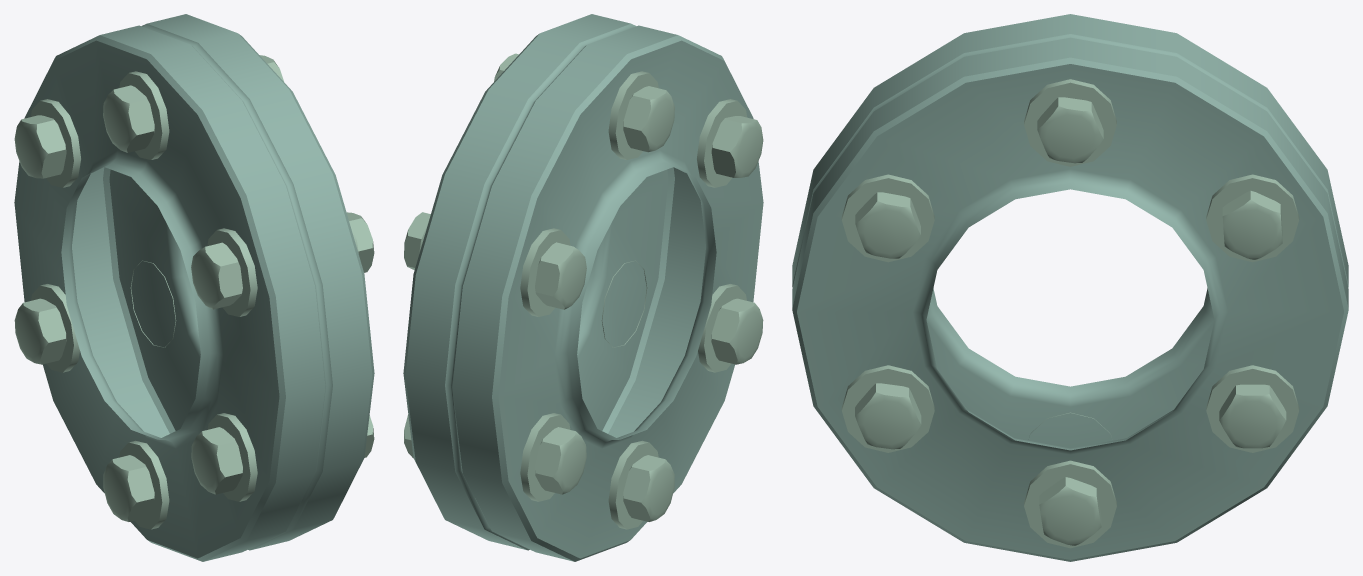
Rendered from PipeLarge_Connector_03_Full.fbx.
The picture shows the model from 3 angles, left to right: view 1: azimuth 30°, elevation 25°; view 2: azimuth 150°, elevation 25°; view 3: azimuth 270°, elevation 25°; orthographic projection. The views are drawn at different scales.
Visible parts, largest first — view 1: PipeLarge_Connector_03_Full.001; view 2: PipeLarge_Connector_03_Full.001; view 3: PipeLarge_Connector_03_Full.001.
Boxes of the visible parts, x1=… form: PipeLarge_Connector_03_Full.001: x1=14, y1=14, x2=374, y2=561; PipeLarge_Connector_03_Full.001: x1=403, y1=14, x2=763, y2=561; PipeLarge_Connector_03_Full.001: x1=792, y1=14, x2=1348, y2=561.
Size of the model in its own units: 0.1287 by 0.3846 by 0.3846.
